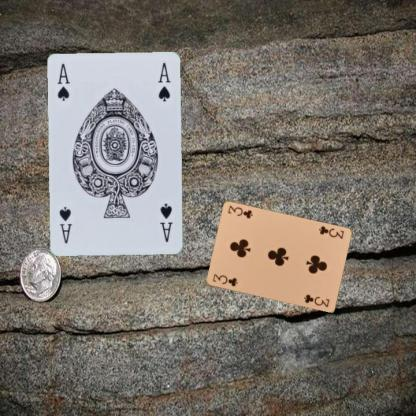3c: (209, 272, 238, 288), (316, 224, 345, 240)
As: (158, 201, 174, 244), (55, 61, 71, 103)
